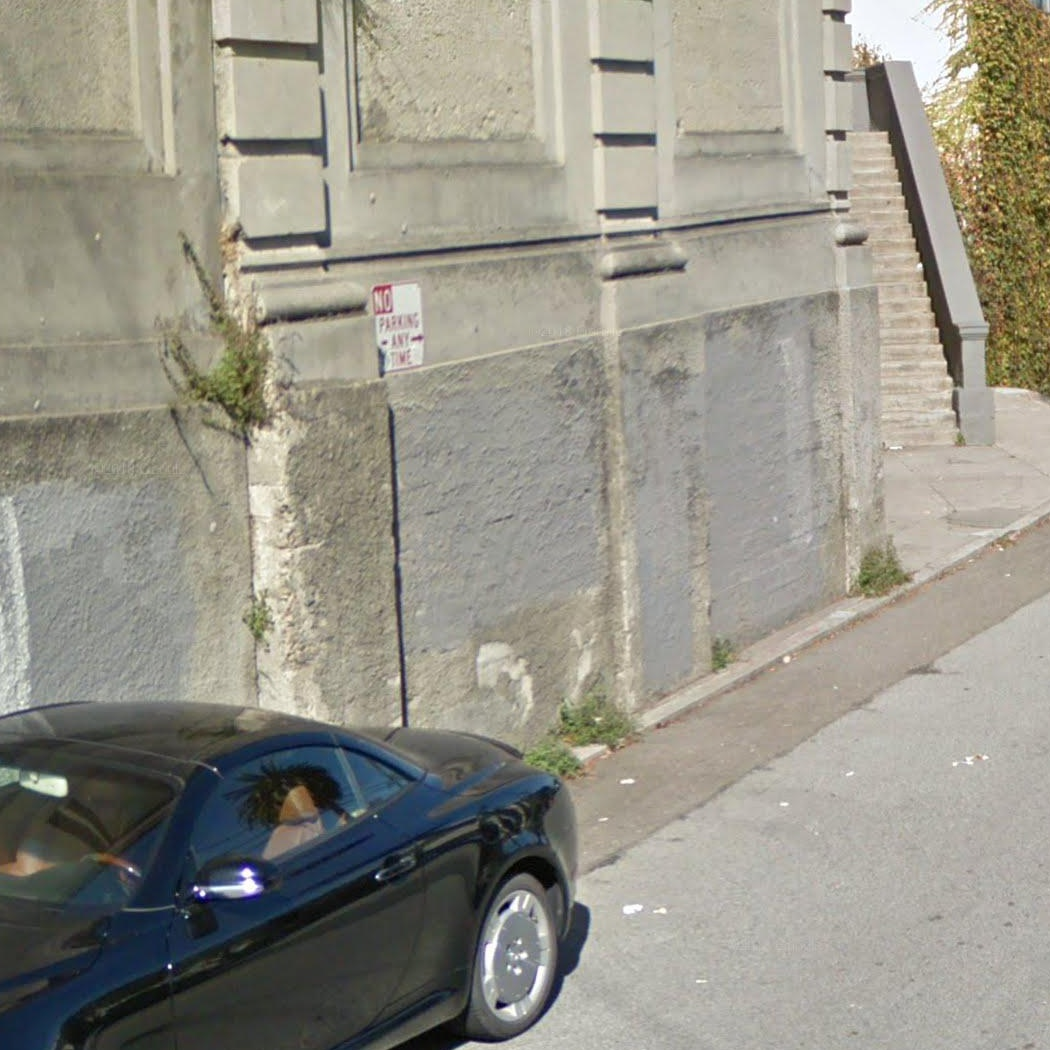No Parking Anytime: (370, 279, 425, 373)
